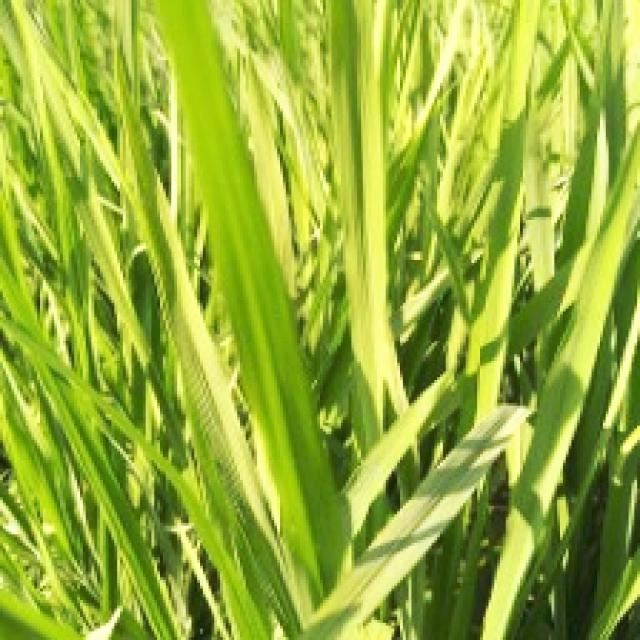health: (154, 0, 367, 602)
